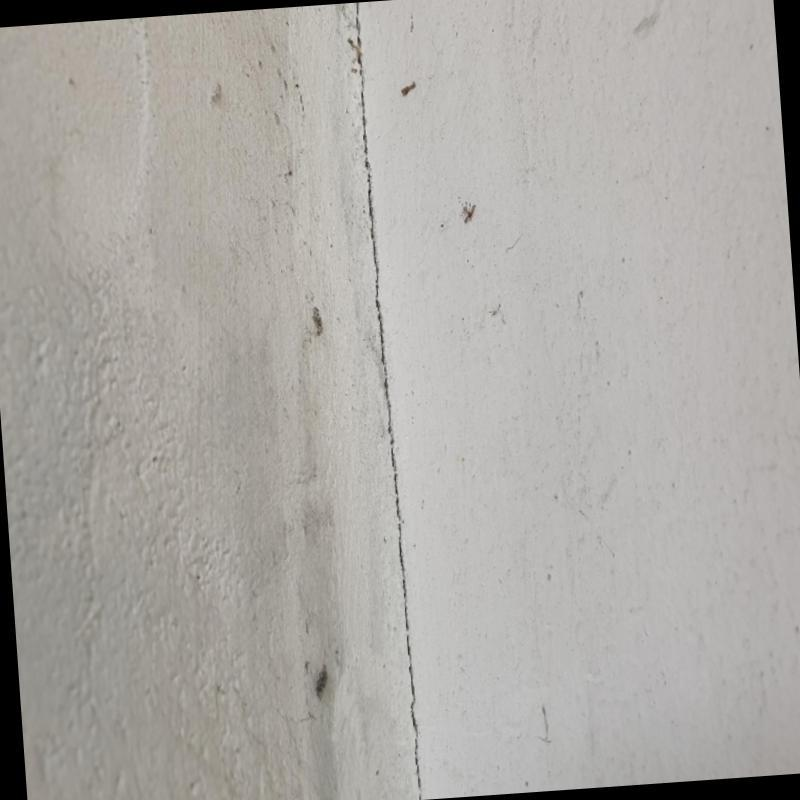pothole: (356, 2, 421, 799)
